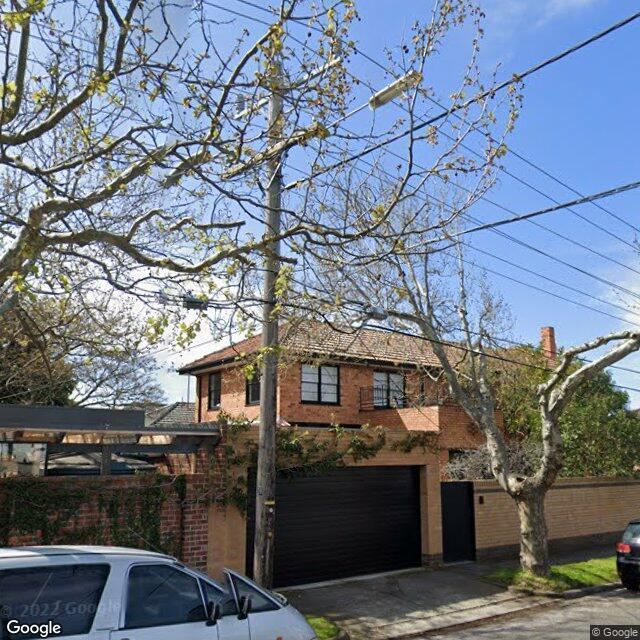HV-transmission: (235, 37, 342, 112)
crossarm: (235, 56, 343, 121), (219, 122, 326, 181)
streetlight: (325, 70, 425, 129)
timber-pole: (254, 62, 283, 588)
